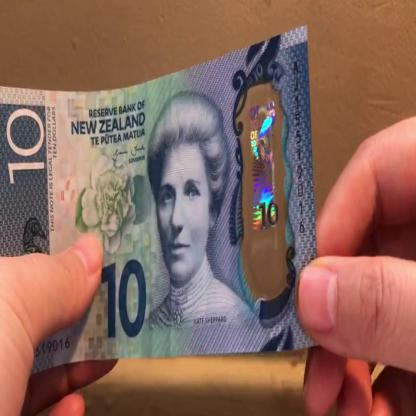10B: (243, 96, 283, 278)
